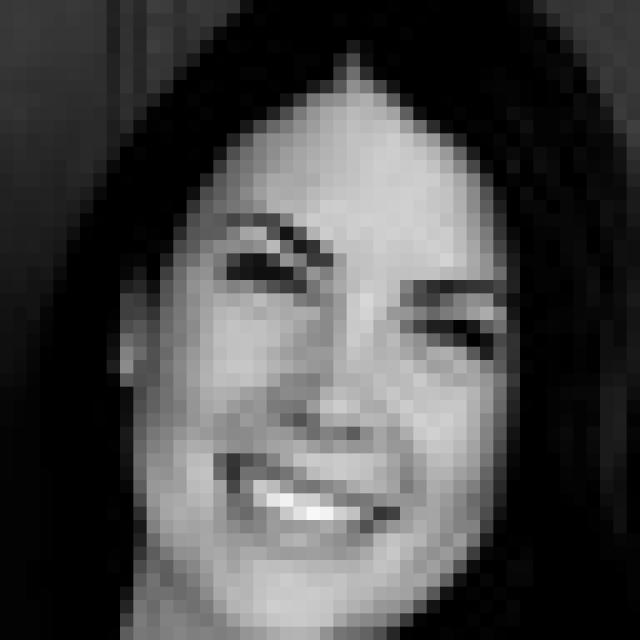happy: (189, 200, 510, 579)
